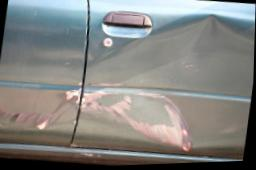Door: (75, 0, 256, 160), (0, 76, 84, 146)
